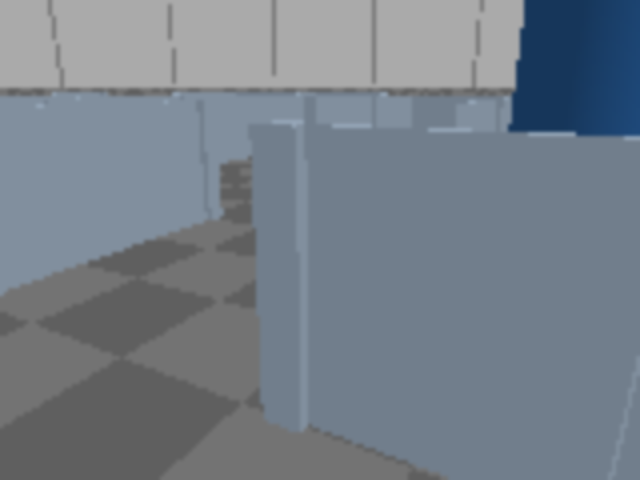person: (490, 0, 638, 359)
